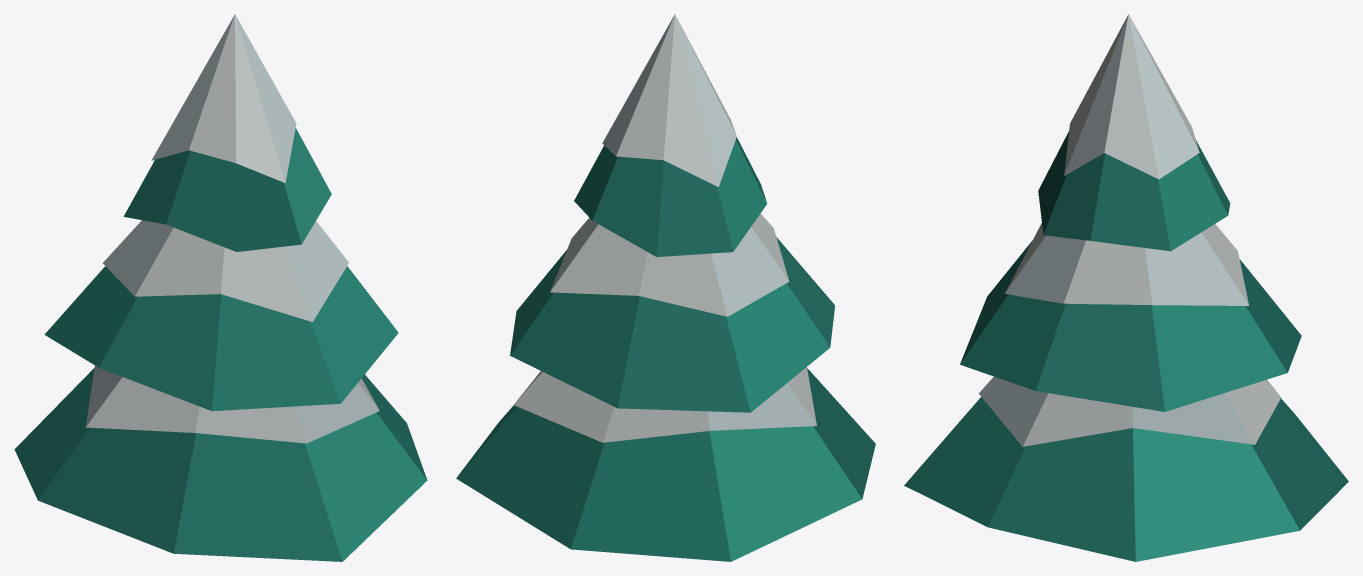
File: fir-c.glb
The picture shows the model from 3 angles, left to right: view 1: azimuth 30°, elevation 25°; view 2: azimuth 150°, elevation 25°; view 3: azimuth 270°, elevation 25°; orthographic projection. The views are drawn at different scales.
Visible parts, largest first — view 1: foliage; view 2: foliage; view 3: foliage.
Boxes of the visible parts, <box> form: foliage: <box>14,14,427,561</box>; foliage: <box>456,14,875,561</box>; foliage: <box>904,14,1348,561</box>.
Size of the model in its own units: 2.4 by 3.26 by 2.47.
